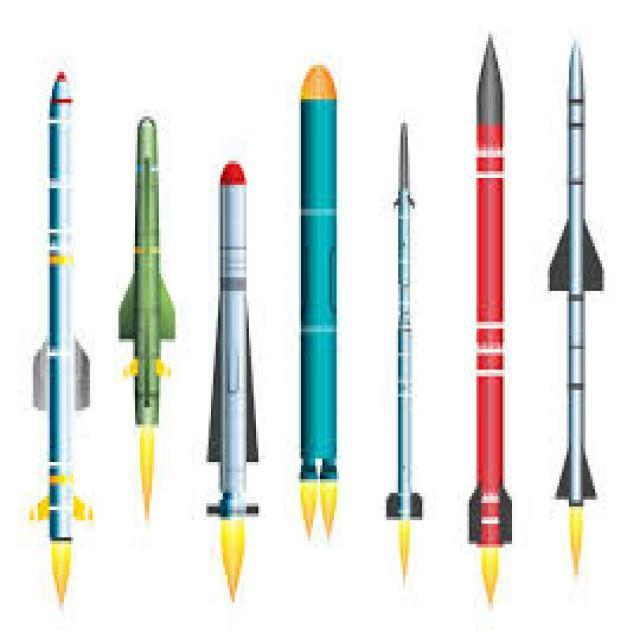Missile: (16, 67, 100, 611), (539, 53, 618, 514), (195, 150, 272, 519), (289, 56, 347, 486)
